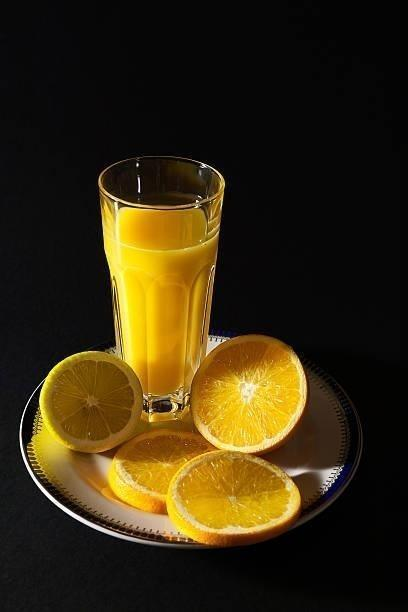glass-normal: (96, 154, 226, 416)
